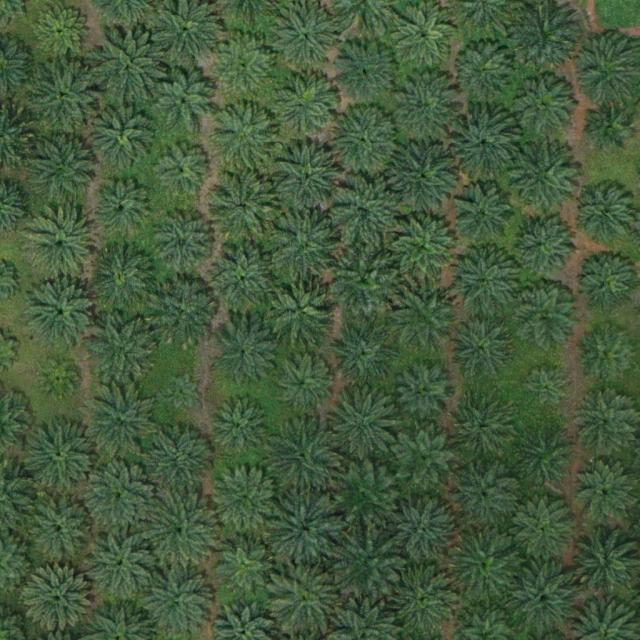Healthy: (25, 211, 96, 282), (266, 276, 337, 347), (269, 418, 340, 489), (269, 494, 340, 565), (209, 246, 280, 317), (210, 321, 281, 392), (86, 461, 157, 532), (332, 527, 403, 598), (450, 526, 521, 597), (31, 62, 101, 133), (29, 132, 99, 203), (94, 30, 164, 101), (90, 101, 160, 172), (89, 175, 159, 246), (211, 104, 282, 174), (206, 172, 277, 242), (329, 37, 400, 107), (394, 70, 464, 141), (389, 139, 459, 210), (509, 71, 579, 142), (510, 144, 580, 215), (391, 284, 461, 355), (387, 496, 457, 567), (328, 458, 398, 529), (272, 214, 342, 285), (211, 466, 281, 537), (148, 280, 218, 351), (146, 495, 216, 566), (87, 245, 157, 316), (84, 384, 154, 455), (27, 280, 97, 351), (25, 496, 95, 567), (25, 565, 95, 636), (83, 531, 153, 602), (142, 569, 212, 640), (392, 564, 462, 635), (511, 564, 582, 634), (271, 4, 341, 74), (274, 144, 344, 214), (329, 108, 399, 178), (329, 178, 399, 248), (449, 104, 519, 174), (452, 249, 522, 319), (449, 462, 519, 532), (390, 215, 460, 285), (331, 247, 401, 317), (328, 317, 398, 387), (329, 387, 399, 457), (145, 425, 215, 495), (89, 315, 159, 385), (25, 422, 95, 492), (270, 565, 340, 635), (274, 73, 337, 136), (452, 184, 515, 247), (575, 249, 638, 312), (449, 398, 512, 461), (214, 532, 277, 595), (152, 69, 214, 132), (154, 212, 216, 275), (212, 36, 274, 99), (393, 3, 455, 66), (578, 323, 640, 386), (573, 391, 635, 454), (573, 460, 635, 523), (513, 214, 575, 277), (514, 284, 576, 347), (515, 426, 577, 489), (514, 498, 576, 561), (451, 315, 513, 378), (395, 363, 457, 426), (395, 428, 457, 491), (272, 352, 335, 414), (453, 38, 515, 100), (571, 184, 633, 246), (209, 395, 271, 457), (34, 5, 89, 60), (157, 144, 212, 199), (586, 102, 633, 149)
Small: (522, 367, 569, 414), (163, 372, 202, 412), (40, 360, 79, 399)
